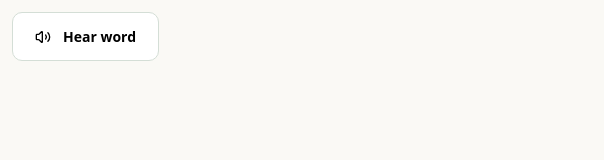
Test: section read-aloud › voice initialization › reports a genuinely empty voice list only after the bounded loading wait
The image size is (604, 160).
Click the button with aria-label "Hear pronunciation: patient": [86, 36] box [12,12,159,61]
Wait 3000 ms
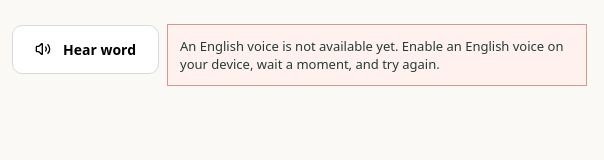
Check: the button with aria-label "Hear pronunciation: patient" is shown, box [12,24,159,74]
Check: the message shows "English voice is not available", box [180,37,563,73]
